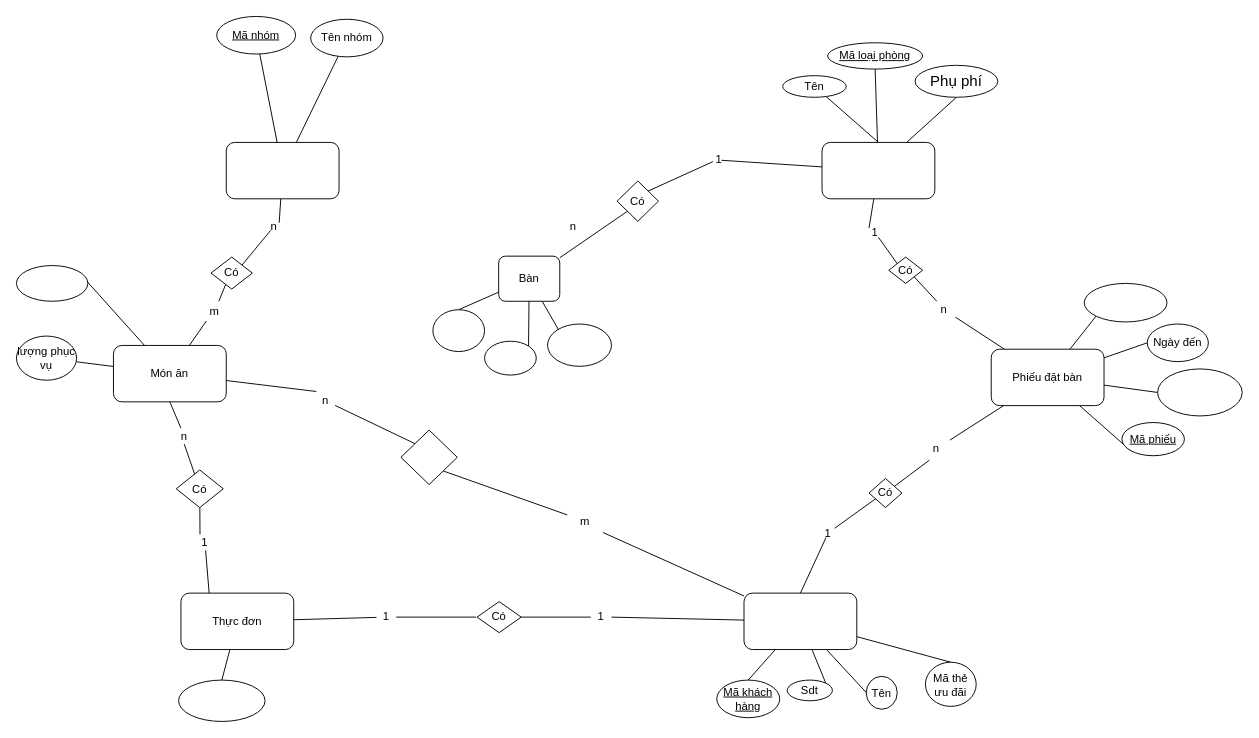
Image size: 1259x738. Some labels were removed from this diagram. Each missing label, with the centre of its shape:
"Khách hàng" goes at [800,621].
"Loại bữa ăn" goes at [1199,392].
"Loại phòng" goes at [878,170].
"Mã bàn" goes at [510,357].
"Mã thực đơn" goes at [221,700].
"Nhóm đồ ăn" goes at [282,170].
"Số lượng chỗ" goes at [579,344].
"Số lượng ng" goes at [1125,302].
"Trạng thái" goes at [458,330].
"Tên món ăn" goes at [52,283].
"Đặt" goes at [428,457].
